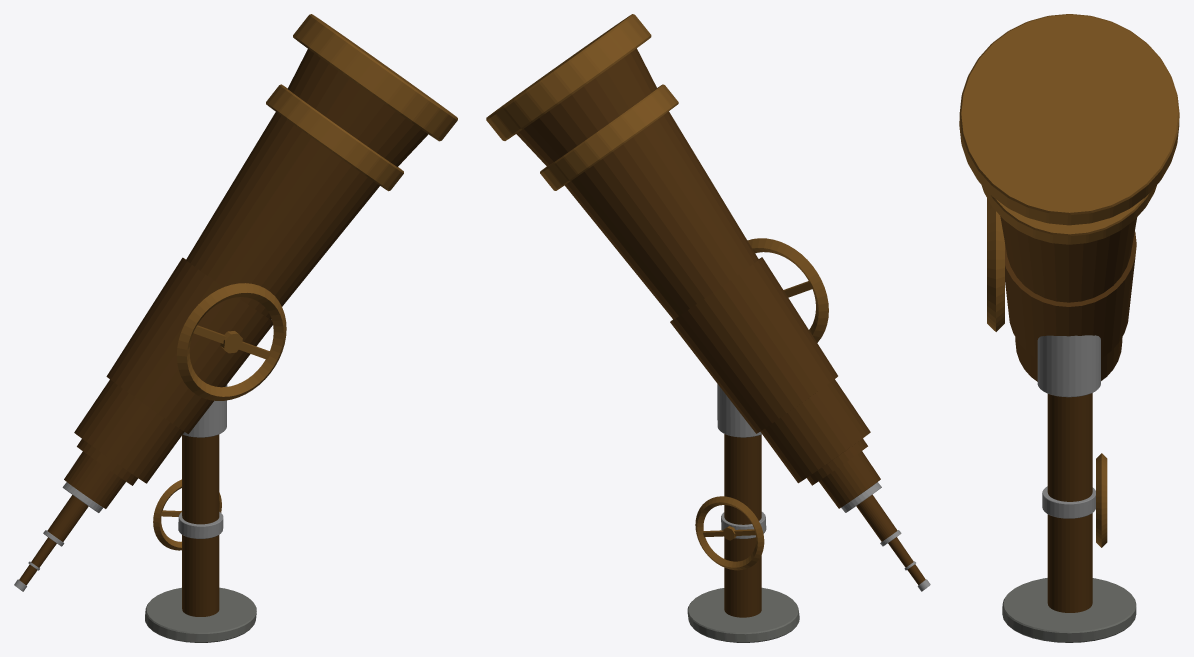
The model's file is telescope_mat.fbx.
3 renders of one model, left to right at view 1: azimuth 30°, elevation 25°; view 2: azimuth 150°, elevation 25°; view 3: azimuth 270°, elevation 25°, orthographic. The views are drawn at different scales.
Parts seen in each view (by area): view 1: telescope, support, Cylinder, cork1, Cylinder.007, Cylinder.001, Cylinder.008, cork2, Cylinder.006; view 2: telescope, Cylinder, support, Cylinder.007, Cylinder.001, cork2, cork1, Cylinder.008; view 3: Cylinder, telescope, support, Cylinder.007, Cylinder.008, Cylinder.001, cork1, cork2, Cylinder.006.
Part boxes in pixels (x1,y1,x2,y2): telescope: [19, 49, 428, 585]; support: [182, 434, 219, 616]; Cylinder: [293, 14, 457, 141]; cork1: [176, 283, 286, 400]; Cylinder.007: [145, 587, 256, 642]; Cylinder.001: [266, 84, 403, 191]; Cylinder.008: [183, 384, 227, 437]; cork2: [153, 479, 221, 550]; Cylinder.006: [178, 512, 223, 538]; telescope: [516, 48, 925, 584]; Cylinder: [486, 14, 651, 140]; support: [724, 434, 761, 617]; Cylinder.007: [687, 587, 799, 642]; Cylinder.001: [540, 84, 678, 190]; cork2: [695, 496, 764, 570]; cork1: [747, 238, 828, 342]; Cylinder.008: [717, 384, 761, 437]; Cylinder: [959, 14, 1179, 225]; telescope: [1000, 216, 1136, 381]; support: [1047, 393, 1092, 612]; Cylinder.007: [1002, 578, 1136, 642]; Cylinder.008: [1037, 335, 1100, 397]; Cylinder.001: [981, 185, 1156, 244]; cork1: [987, 198, 1004, 331]; cork2: [1096, 453, 1107, 547]; Cylinder.006: [1042, 486, 1095, 518].
Size of the model in its own units: 1324 by 1666 by 493.
